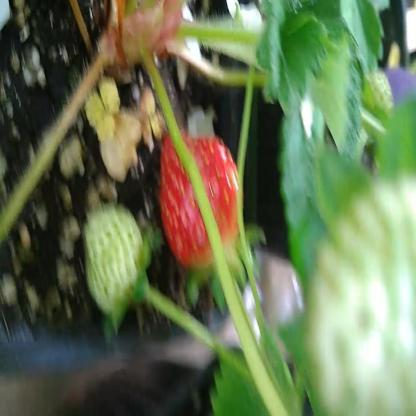ripe: (160, 139, 242, 265)
unripe: (83, 200, 142, 316)
